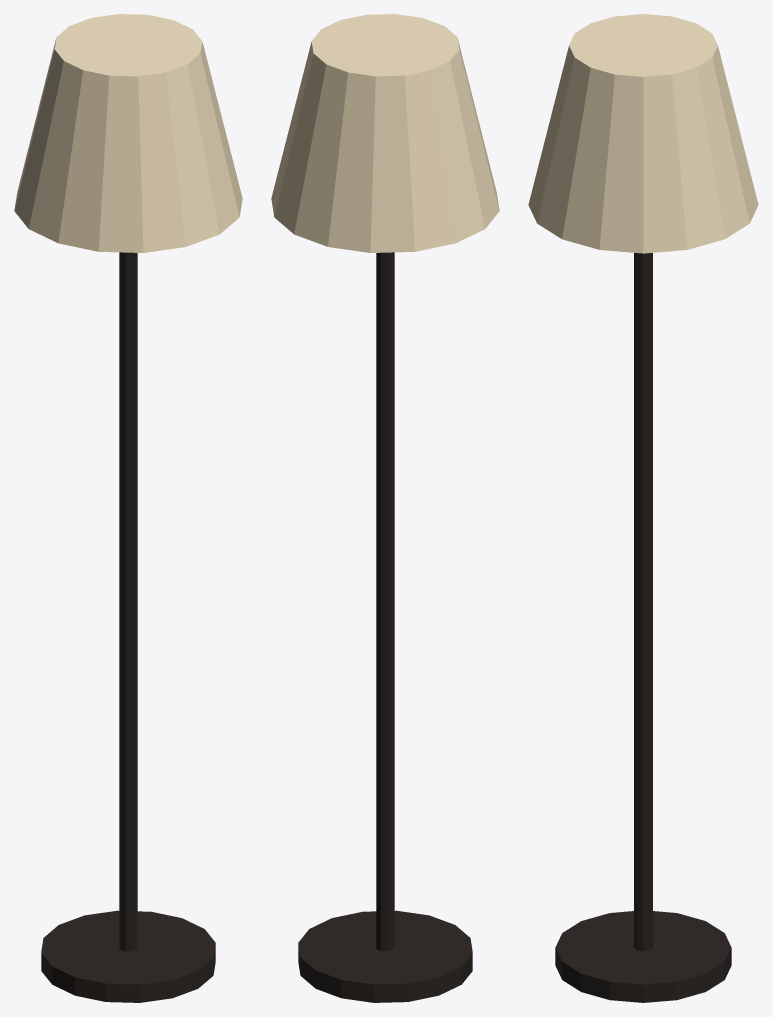
Rendered from floor_lamp.glb.
The picture shows the model from 3 angles, left to right: view 1: azimuth 30°, elevation 25°; view 2: azimuth 150°, elevation 25°; view 3: azimuth 270°, elevation 25°; orthographic projection.
Parts seen in each view (by area): view 1: floor_lamp; view 2: floor_lamp; view 3: floor_lamp.
Part boxes in pixels (x1,y1,x2,y2): floor_lamp: (14,14,242,1002); floor_lamp: (271,14,499,1002); floor_lamp: (528,14,758,1002).
Size of the model in its own units: 0.34 by 1.5 by 0.34.
